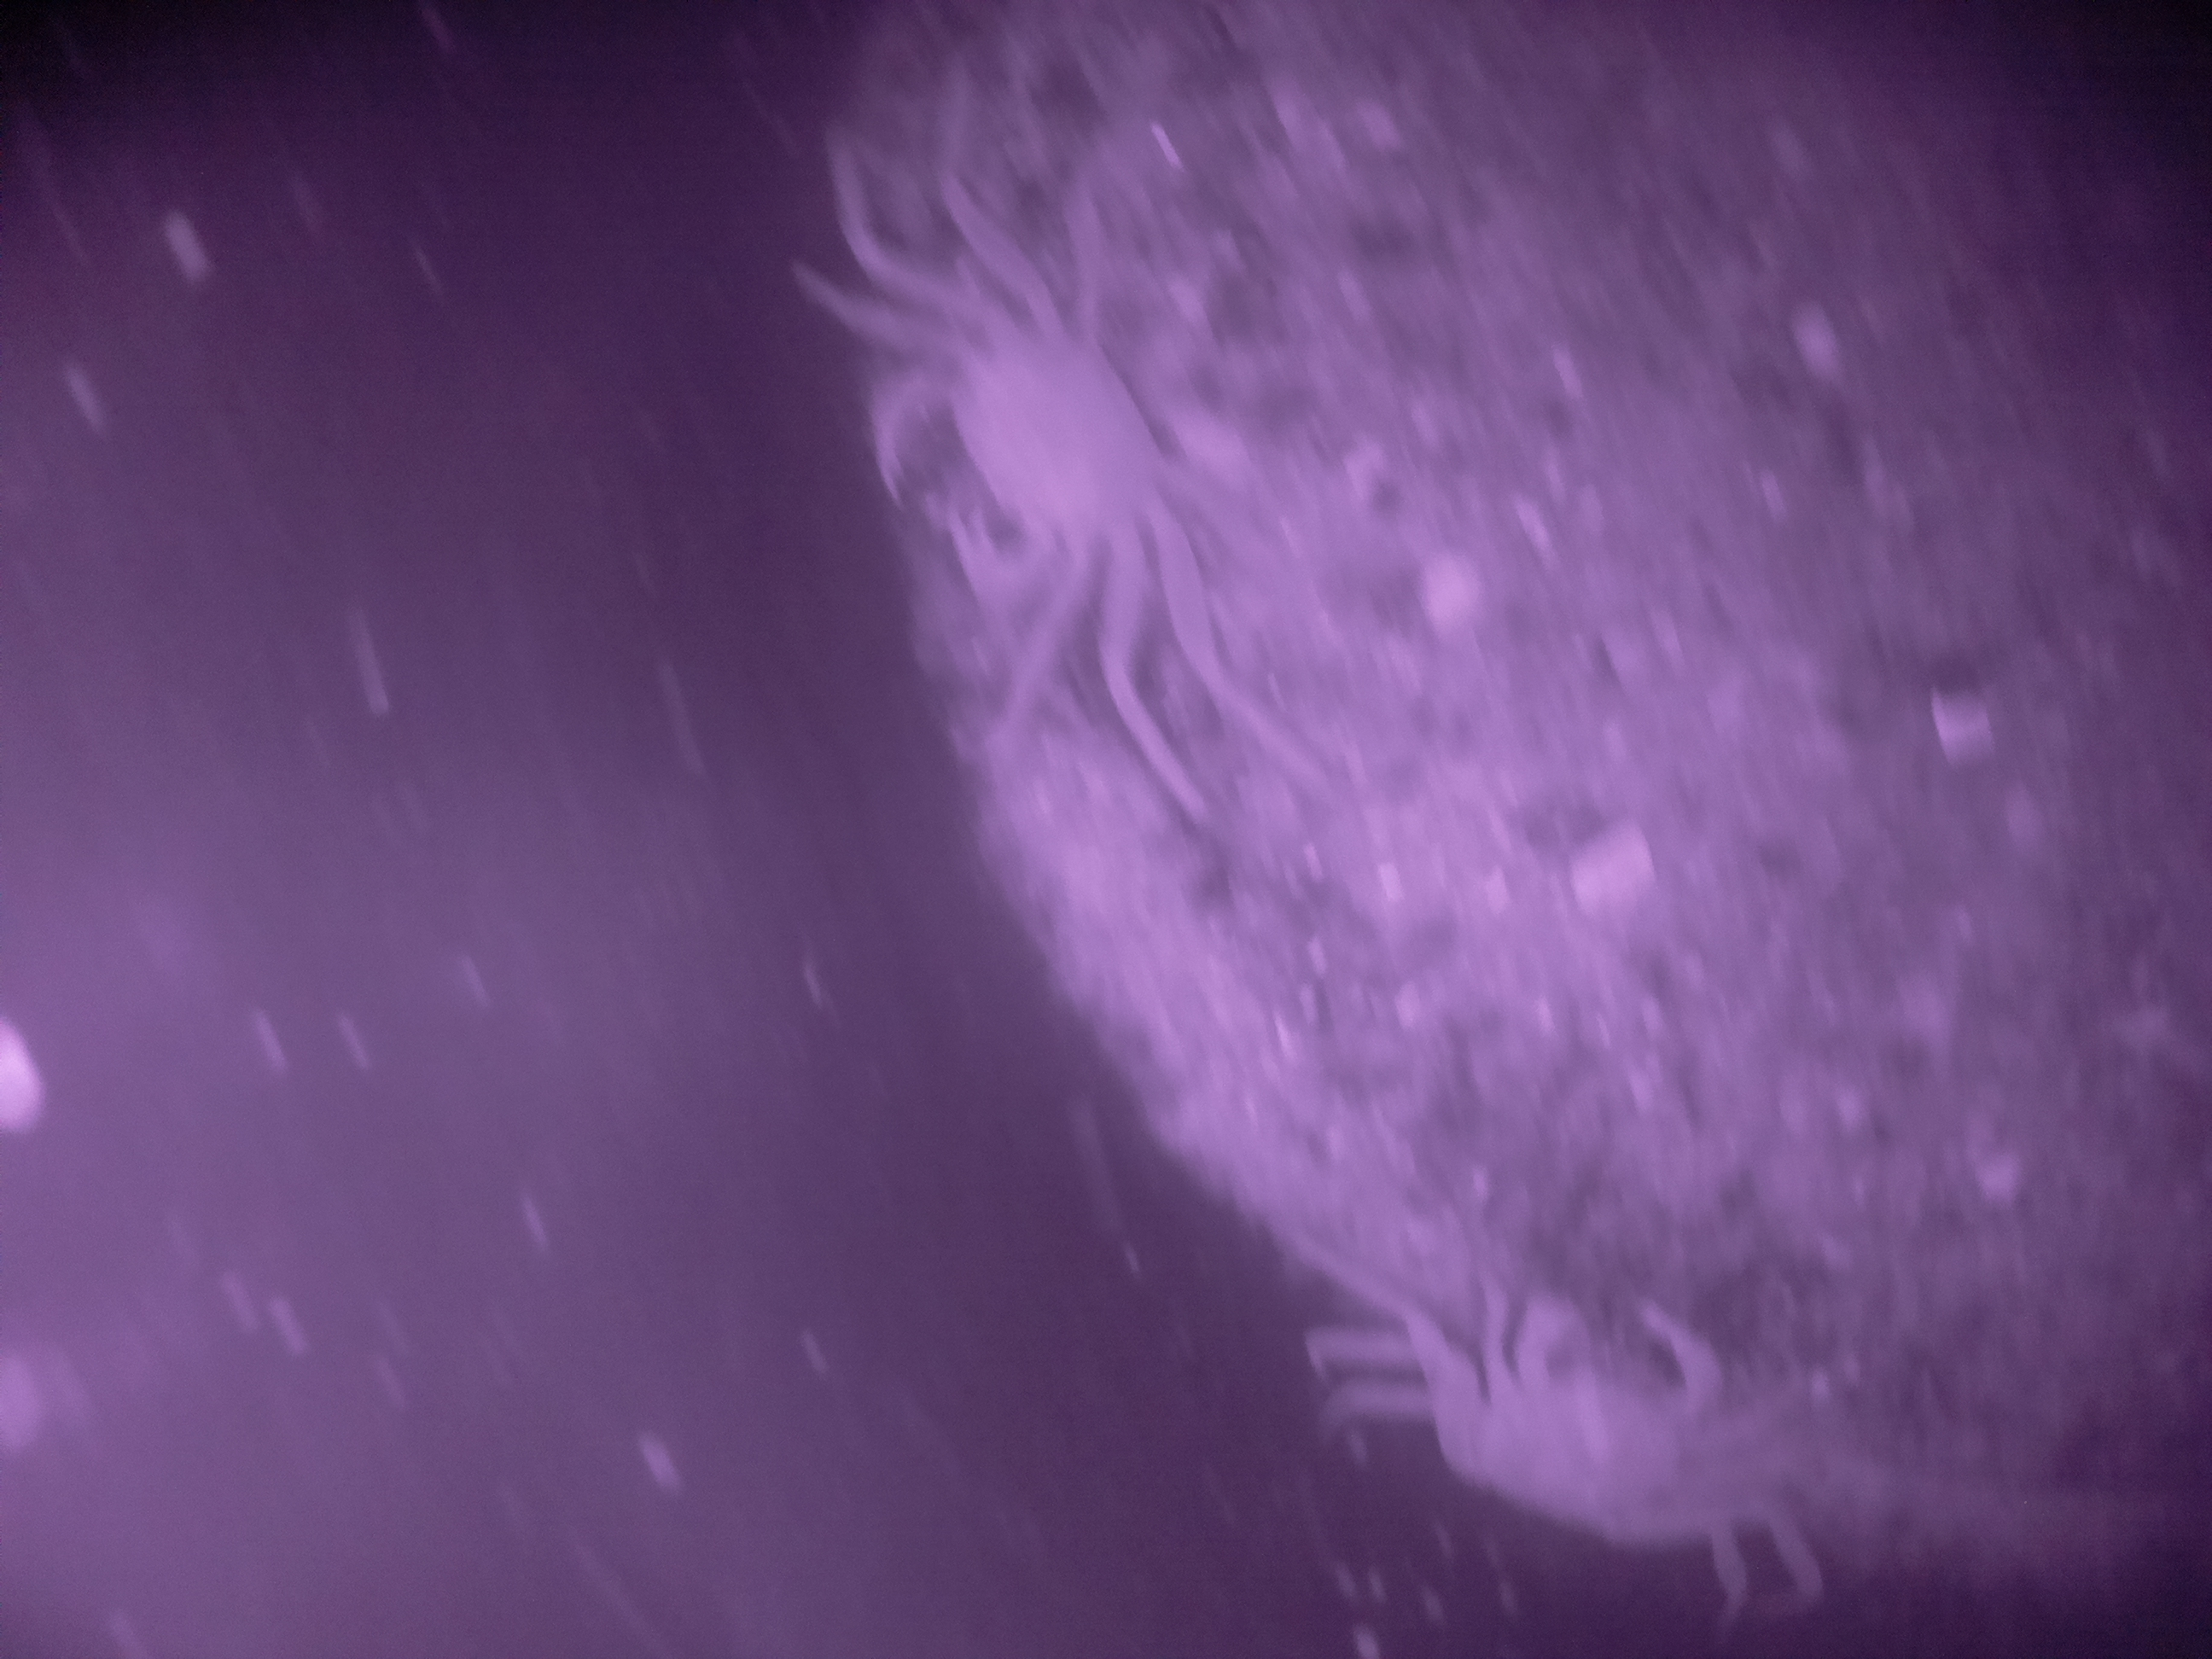Crab: (765, 246, 1306, 688), (1350, 1194, 1822, 1607)
